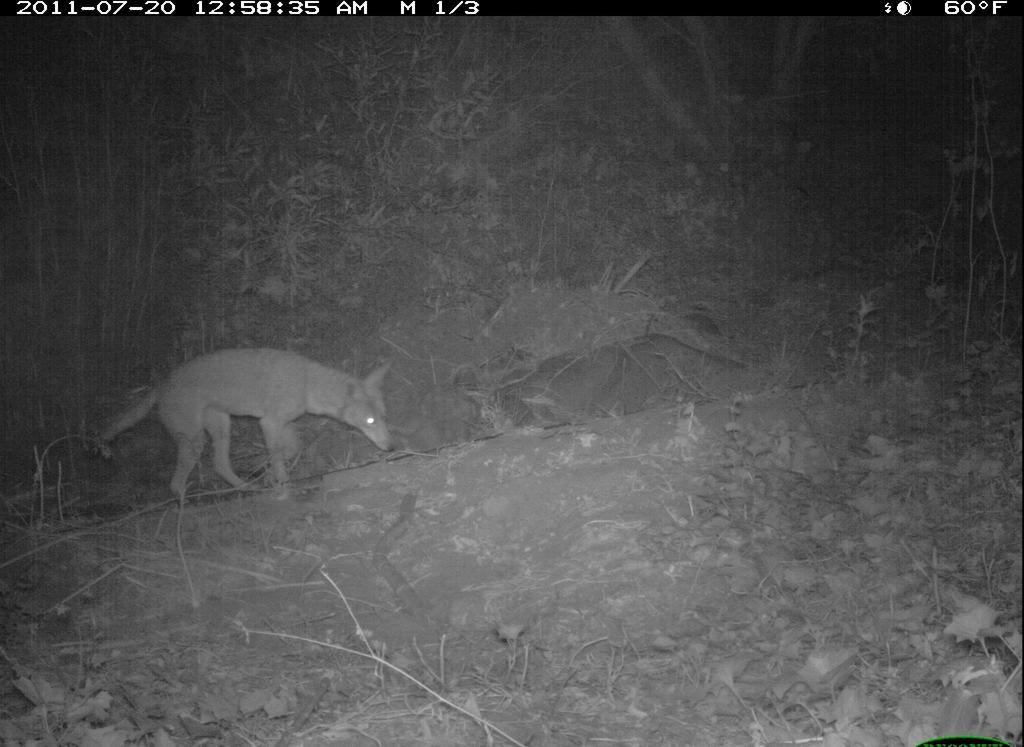coyote: (90, 338, 404, 515)
